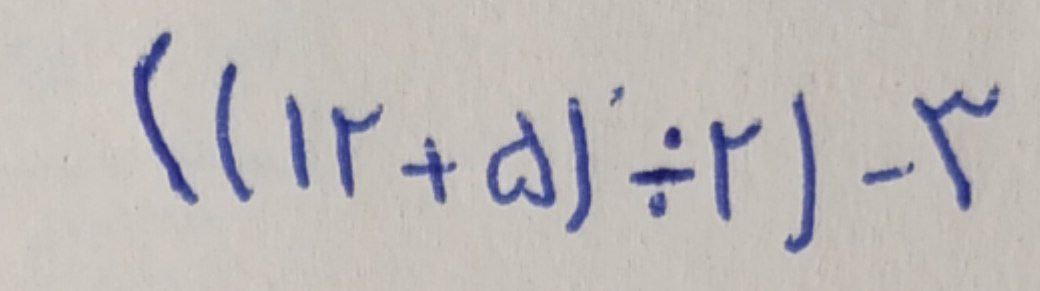character: (126, 24, 208, 221), (914, 81, 1003, 217), (477, 107, 558, 212), (627, 118, 703, 220), (778, 86, 821, 255), (711, 113, 770, 220), (213, 54, 255, 204), (326, 96, 386, 200), (559, 91, 597, 236), (399, 132, 458, 216), (282, 91, 314, 193), (853, 156, 914, 189)
